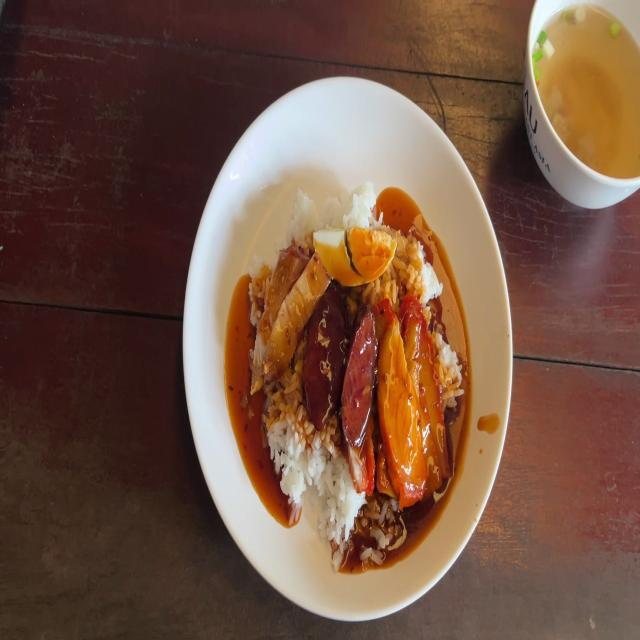01boiled_egg: (312, 232, 397, 275)
01chainese_sausage: (305, 298, 377, 430)
01crispy_pork: (251, 241, 323, 375)
01red_pork: (376, 306, 447, 486)
01red_pork_and_crispy_pork: (241, 190, 468, 564)
01rice: (301, 436, 344, 556), (269, 382, 308, 500), (395, 226, 438, 295)
